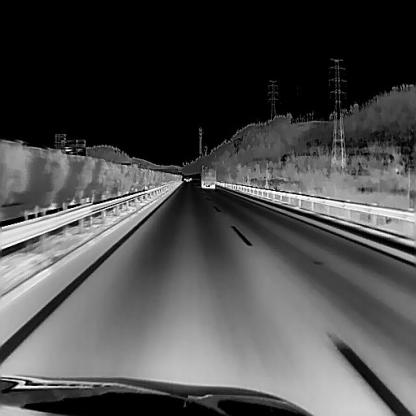truck: (200, 163, 216, 188)
